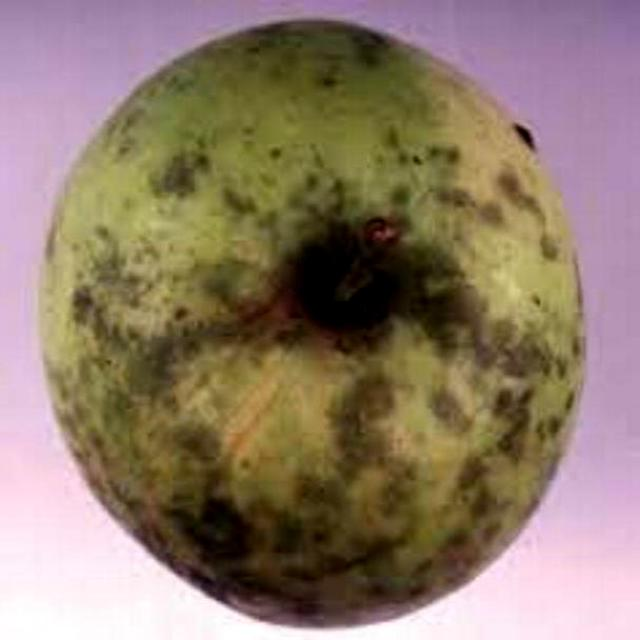BLOTCH: (26, 18, 596, 619)
